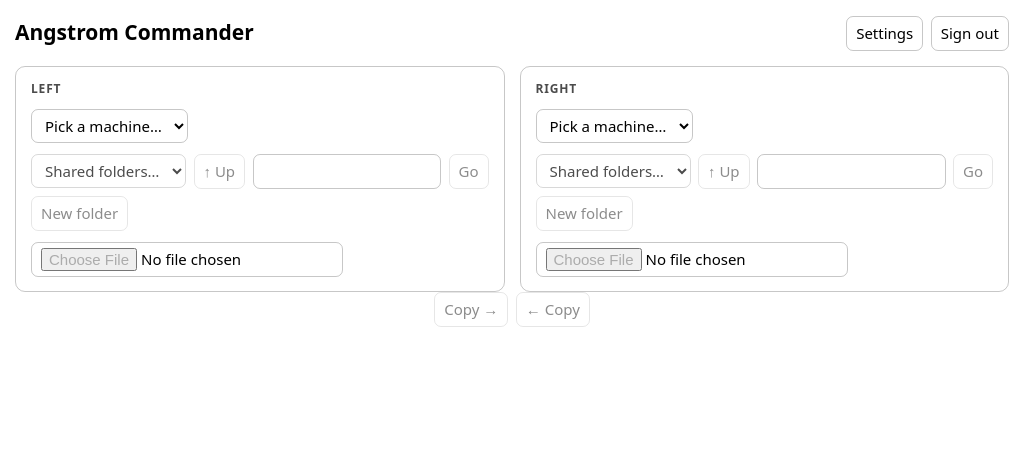
Test: navigating with the path box drops the selection
The width and height of the screenshot is (1024, 464).
Select "Home PC" in the dropdown named "Left: machine". click: {"x": 110, "y": 126}
box: [31,108,188,143]
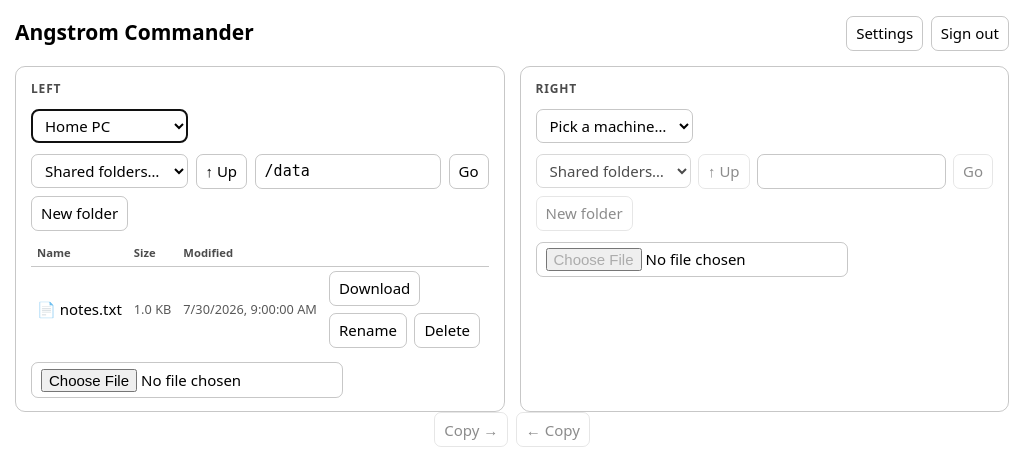
Select "Laptop" in the dropdown named "Right: machine". click: {"x": 614, "y": 126}
box: [536,108,692,143]
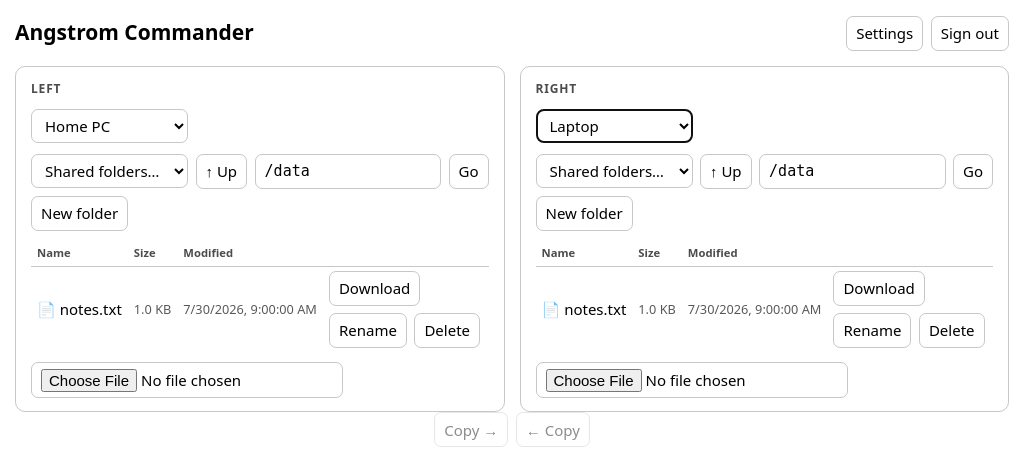
Click the text "📄 notes.txt" below "Left". click: {"x": 79, "y": 309}
box: [31,266,128,352]
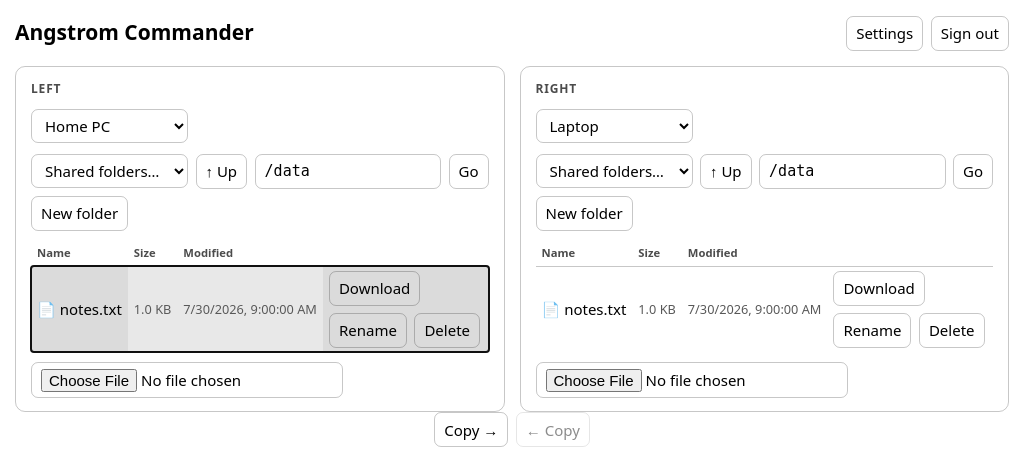
expect the button "Copy →" is enabled: met, box [434,412,508,447]
Replace the text in the field named "Left: path" with "/uploads". click: {"x": 348, "y": 171}
box: [255,154,441,188]
Then press Enter
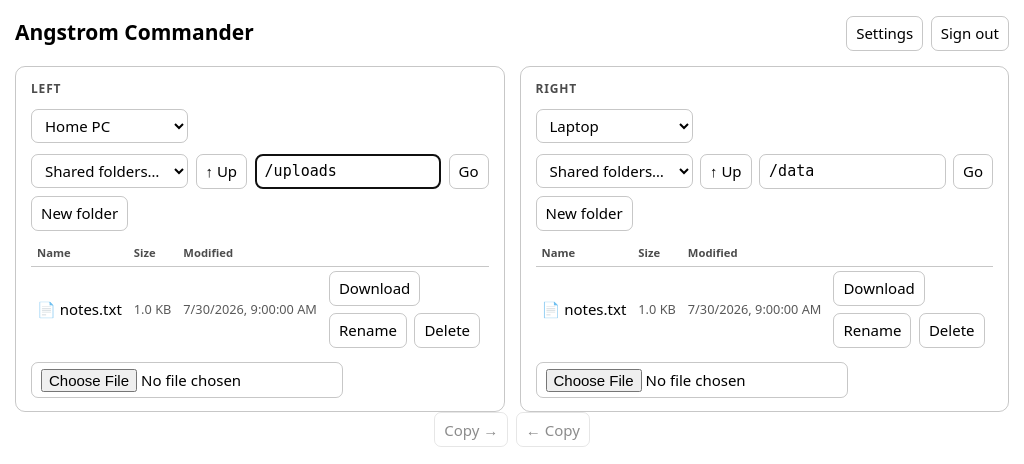
expect the button "Copy →" is disabled: met, box [434,412,508,447]
